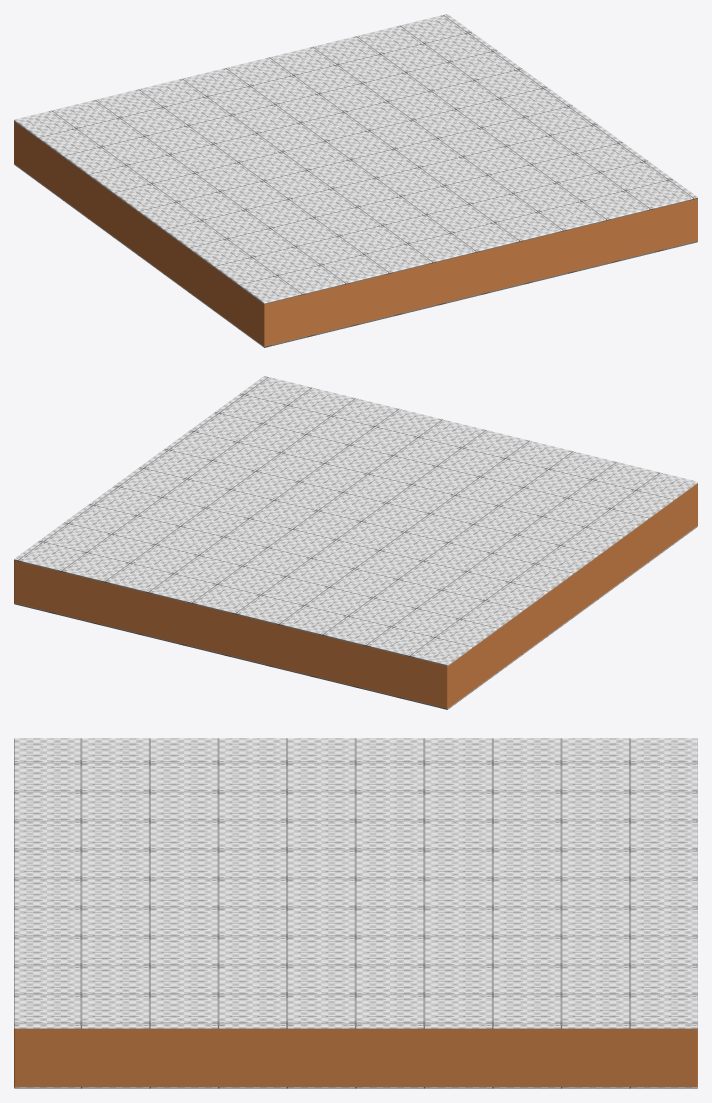
Rendered from [arch] Panel 10x10x1m.fbx.
3 renders of one model, top to bottom at view 1: azimuth 30°, elevation 25°; view 2: azimuth 150°, elevation 25°; view 3: azimuth 270°, elevation 25°, orthographic. The views are drawn at different scales.
Visible parts, largest first — view 1: [arch] Panel 10x10x1m; view 2: [arch] Panel 10x10x1m; view 3: [arch] Panel 10x10x1m.
Part boxes in pixels (x1=…): [arch] Panel 10x10x1m: x1=14, y1=14, x2=697, y2=347; [arch] Panel 10x10x1m: x1=14, y1=376, x2=697, y2=709; [arch] Panel 10x10x1m: x1=14, y1=738, x2=697, y2=1088.
Bounding box in the file's own units: 1000 × 100 × 1000.
